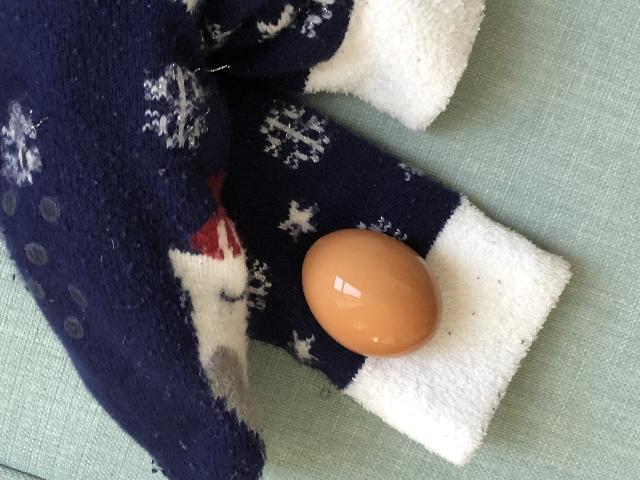Sano: (300, 226, 443, 358)
